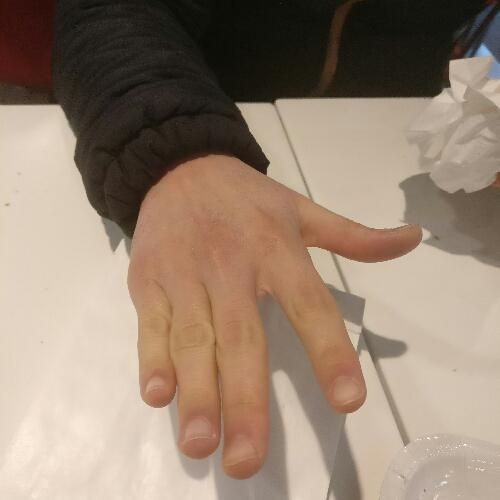paper: (121, 148, 425, 485)
